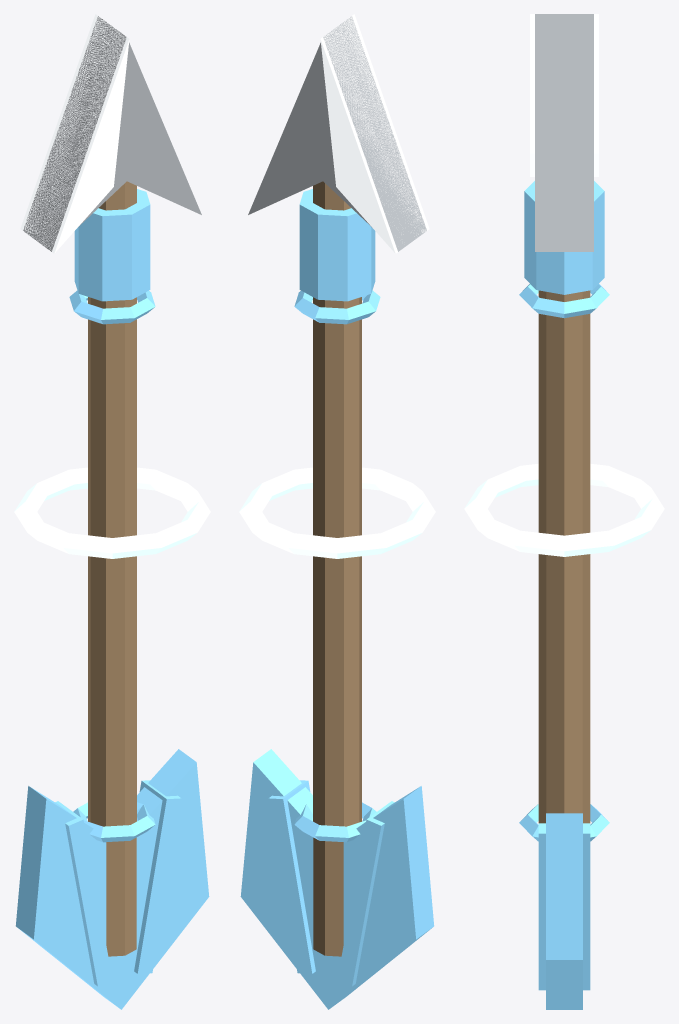
Rendered from ranged_shot.glb.
3 renders of one model, left to right at view 1: azimuth 30°, elevation 25°; view 2: azimuth 150°, elevation 25°; view 3: azimuth 270°, elevation 25°, orthographic.
Parts seen in each view (by area): view 1: Shaft.009, ForgedArrowhead.009, HeadEdgeLeft.009, Fletching_-1.009, Fletching_1.009, GuideRing, HeadCollar.009, FletchingRib_1.009, FletchingRib_-1.009, Binding_1.009, Binding_0.009; view 2: Shaft.009, ForgedArrowhead.009, Fletching_-1.009, HeadEdgeLeft.009, Fletching_1.009, GuideRing, HeadCollar.009, FletchingRib_1.009, FletchingRib_-1.009, Binding_1.009, Binding_0.009; view 3: Shaft.009, ForgedArrowhead.009, GuideRing, Fletching_1.009, HeadCollar.009, FletchingRib_1.009, HeadEdgeLeft.009, Binding_1.009, Binding_0.009.
Part boxes in pixels (x1,y1,x2,y2): Shaft.009: (88, 181, 136, 956); ForgedArrowhead.009: (23, 16, 201, 251); HeadEdgeLeft.009: (20, 14, 129, 253); Fletching_-1.009: (15, 786, 121, 1009); Fletching_1.009: (121, 749, 209, 1009); GuideRing: (14, 467, 210, 558); HeadCollar.009: (74, 189, 150, 301); FletchingRib_1.009: (134, 780, 181, 973); FletchingRib_-1.009: (55, 801, 112, 986); Binding_1.009: (69, 290, 155, 324); Binding_0.009: (73, 802, 155, 842); Shaft.009: (313, 181, 361, 956); ForgedArrowhead.009: (248, 16, 426, 251); Fletching_-1.009: (328, 786, 434, 1009); HeadEdgeLeft.009: (320, 14, 429, 253); Fletching_1.009: (240, 749, 328, 1009); GuideRing: (239, 467, 435, 558); HeadCollar.009: (299, 189, 375, 301); FletchingRib_1.009: (268, 780, 315, 973); FletchingRib_-1.009: (337, 801, 394, 986); Binding_1.009: (294, 290, 380, 324); Binding_0.009: (294, 802, 376, 842); Shaft.009: (538, 290, 590, 823); ForgedArrowhead.009: (535, 14, 593, 251); GuideRing: (464, 463, 664, 556); Fletching_1.009: (546, 813, 582, 1009); HeadCollar.009: (524, 181, 604, 294); FletchingRib_1.009: (538, 823, 590, 990); HeadEdgeLeft.009: (530, 14, 598, 176); Binding_1.009: (519, 284, 609, 318); Binding_0.009: (519, 804, 609, 841).
Size of the model in its own units: 0.28 by 1.49 by 0.272.
